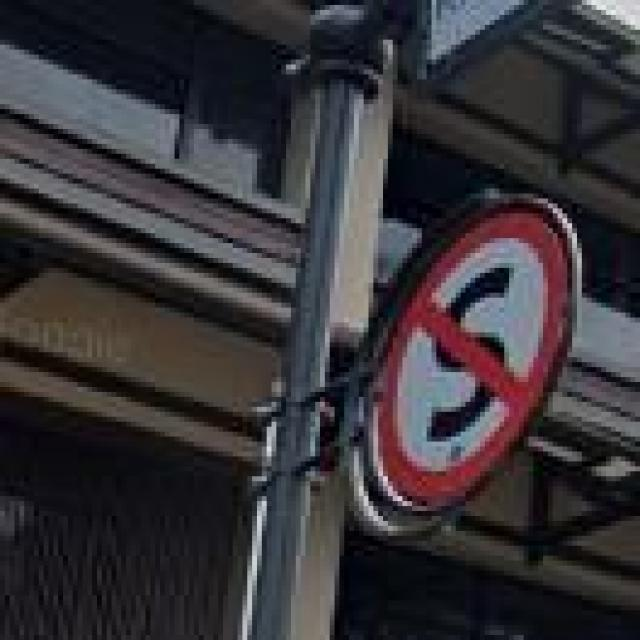traffic sign: (378, 203, 567, 510)
